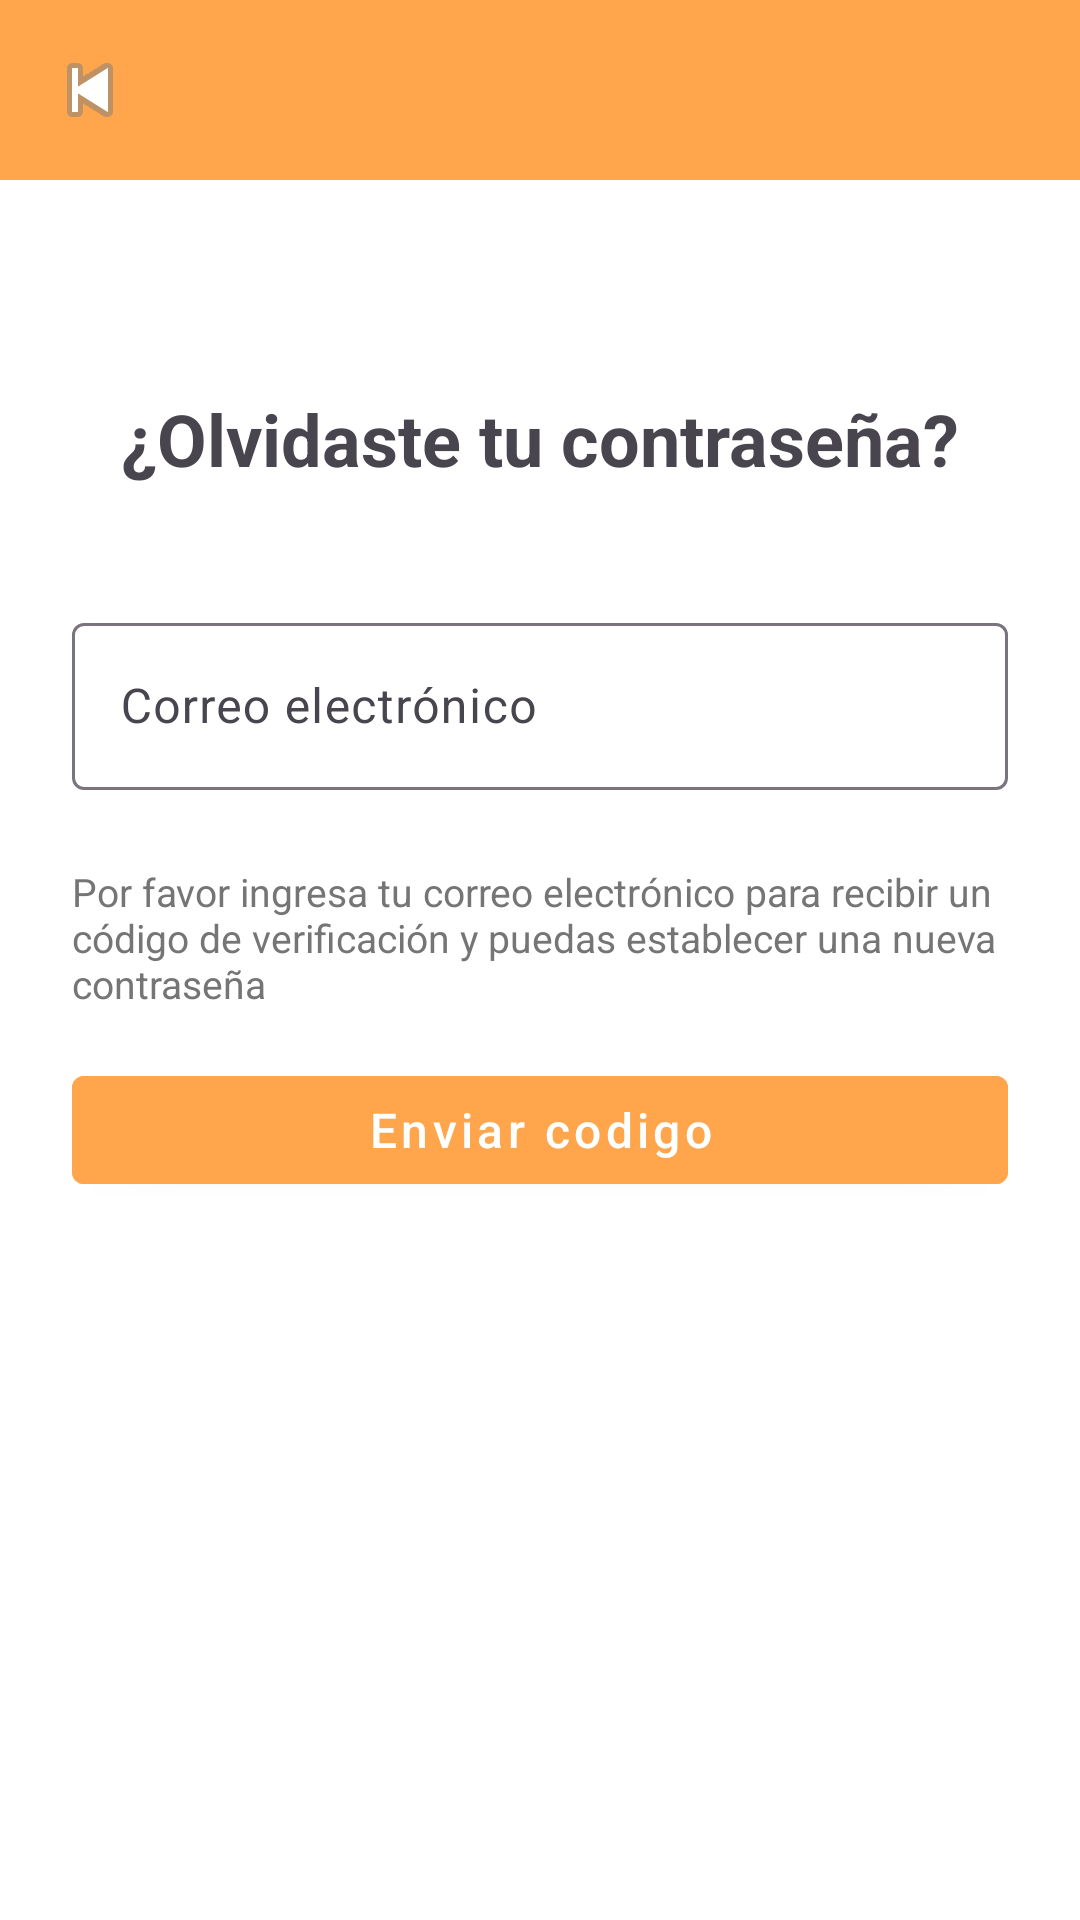

Where icons sit on this 1080w x 1920h app screen, as (x1, y1, x2, y2):
previous: (67, 63, 113, 117)
